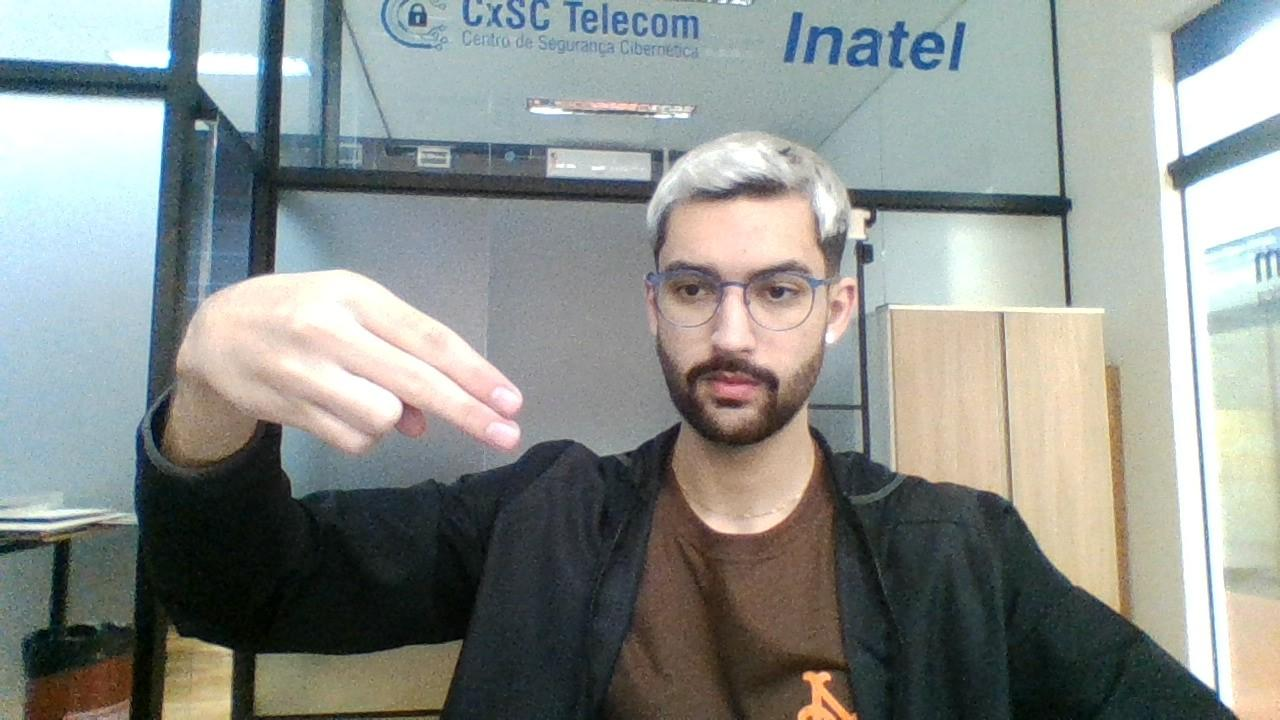N: (182, 256, 538, 474)
